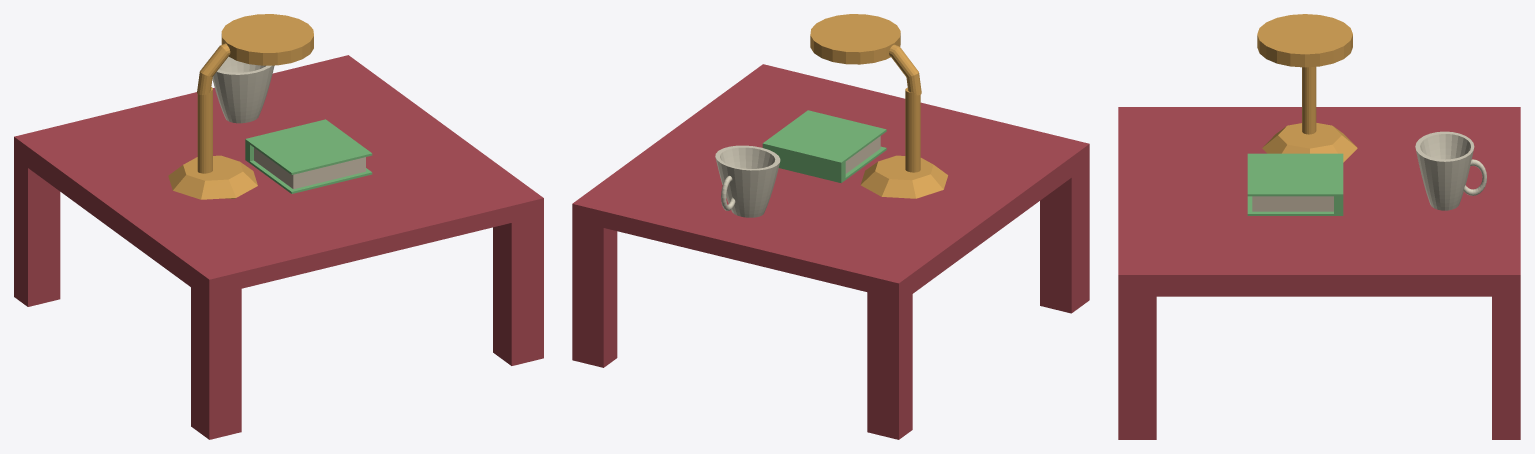
Rendered from C-PRO-149_glb.glb.
3 renders of one model, left to right at view 1: azimuth 30°, elevation 25°; view 2: azimuth 150°, elevation 25°; view 3: azimuth 270°, elevation 25°, orthographic. The views are drawn at different scales.
Parts seen in each view (by area): view 1: Mesh_Mesh_head_geo.001_lambert2SG.001; view 2: Mesh_Mesh_head_geo.001_lambert2SG.001; view 3: Mesh_Mesh_head_geo.001_lambert2SG.001.
Part boxes in pixels (x1,y1,x2,y2): Mesh_Mesh_head_geo.001_lambert2SG.001: [14, 14, 543, 439]; Mesh_Mesh_head_geo.001_lambert2SG.001: [572, 14, 1089, 439]; Mesh_Mesh_head_geo.001_lambert2SG.001: [1118, 14, 1520, 439].
Size of the model in its own units: 83 by 72 by 84.
